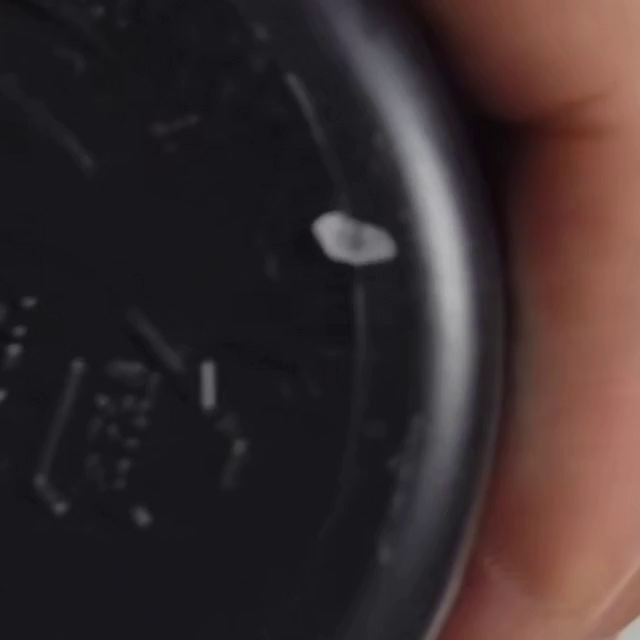Plastic: (31, 298, 247, 538)
